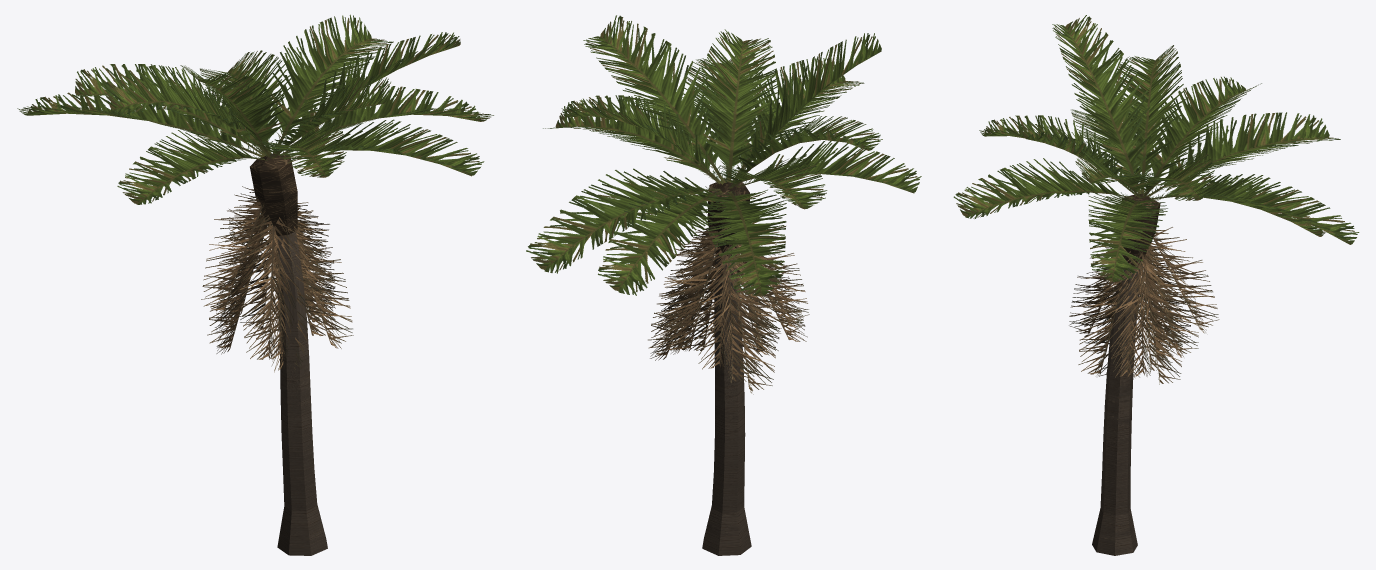
Rendered from plant_palm_date_c_v5.glb.
3 renders of one model, left to right at view 1: azimuth 30°, elevation 25°; view 2: azimuth 150°, elevation 25°; view 3: azimuth 270°, elevation 25°, orthographic. The views are drawn at different scales.
Parts seen in each view (by area): view 1: plant_palm_date_c_v5; view 2: plant_palm_date_c_v5; view 3: plant_palm_date_c_v5.
Boxes of the visible parts, x1,y1,x2,y2 form: plant_palm_date_c_v5: (17, 14, 493, 555); plant_palm_date_c_v5: (526, 15, 921, 555); plant_palm_date_c_v5: (953, 15, 1359, 555).
Size of the model in its own units: 5.23 by 7.1 by 5.56.
Materials: 1 (1 with a texture image).
